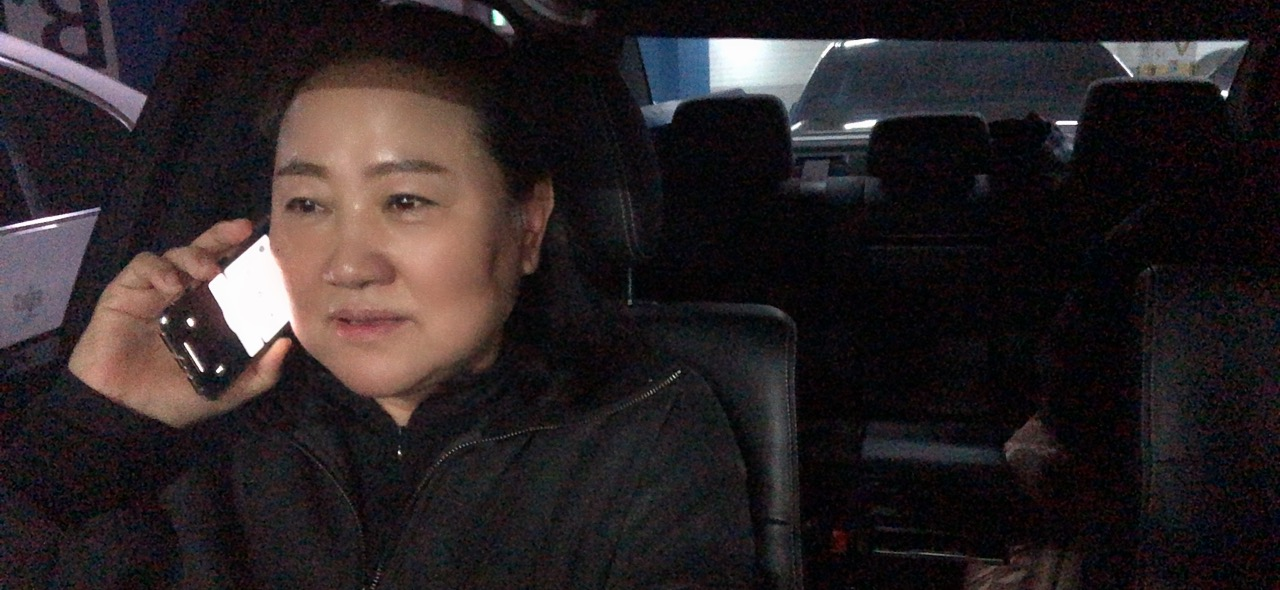phone: (23, 5, 774, 590)
